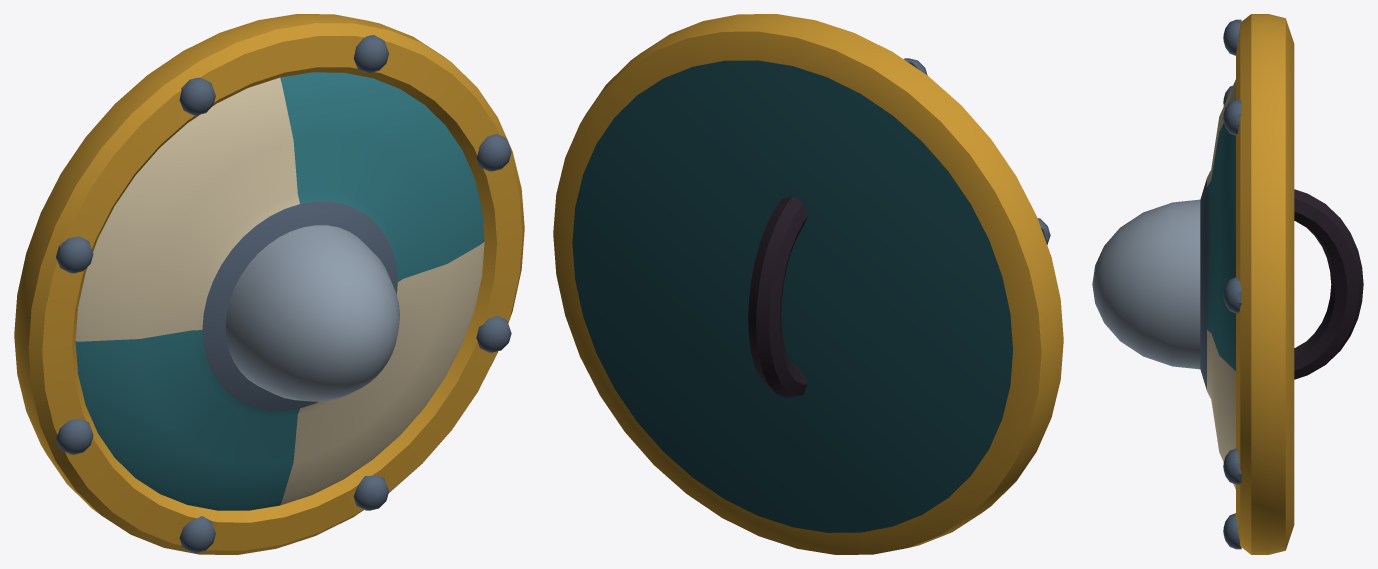
Rendered from RoundShield_09.glb.
3 renders of one model, left to right at view 1: azimuth 30°, elevation 25°; view 2: azimuth 150°, elevation 25°; view 3: azimuth 270°, elevation 25°, orthographic. The views are drawn at different scales.
Visible parts, largest first — view 1: RoundShield_09; view 2: RoundShield_09; view 3: RoundShield_09.
Part boxes in pixels (x1,y1,x2,y2): RoundShield_09: (14, 14, 524, 554); RoundShield_09: (553, 14, 1063, 554); RoundShield_09: (1092, 14, 1363, 554).
Size of the model in its own units: 2.5 by 2.5 by 1.25.
